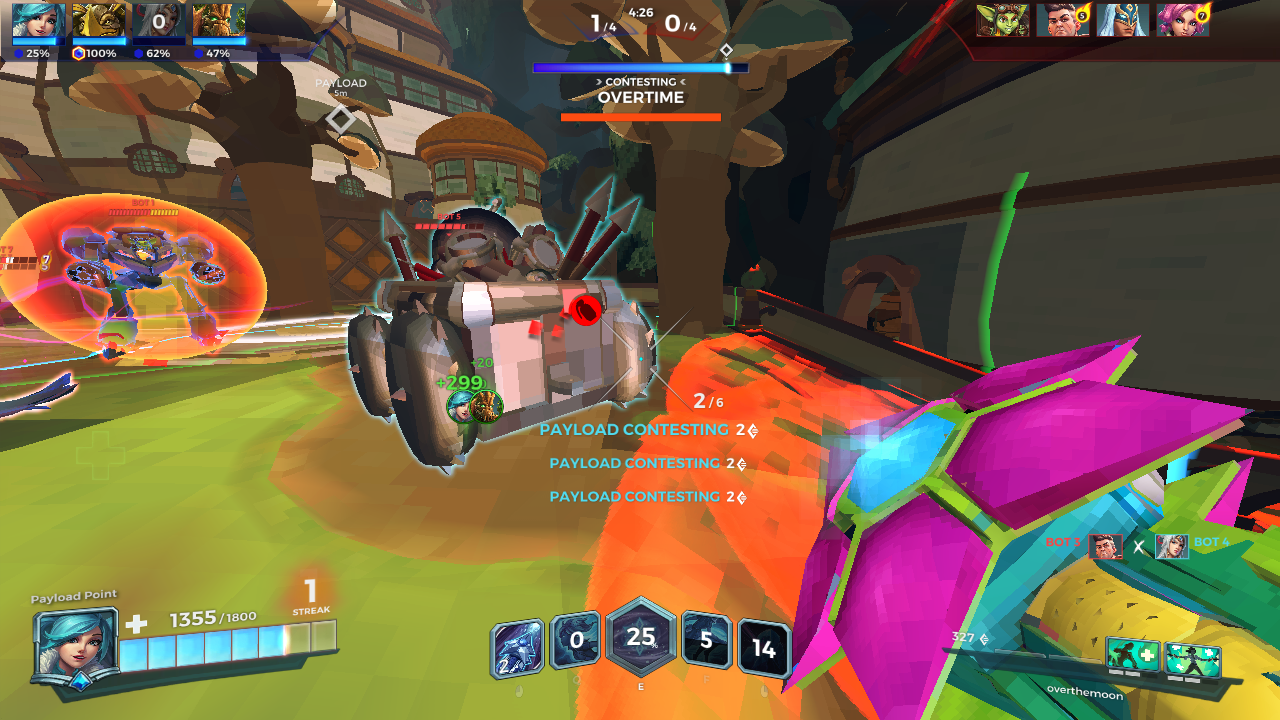model: (53, 216, 242, 351)
